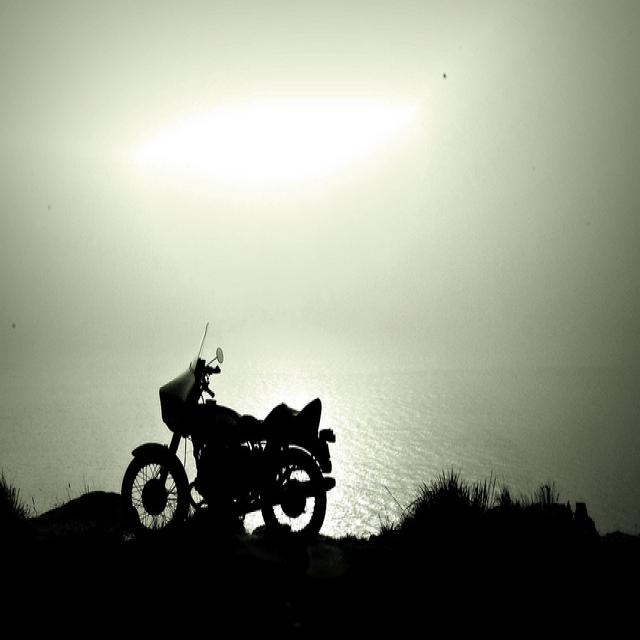motor: (121, 322, 338, 542)
